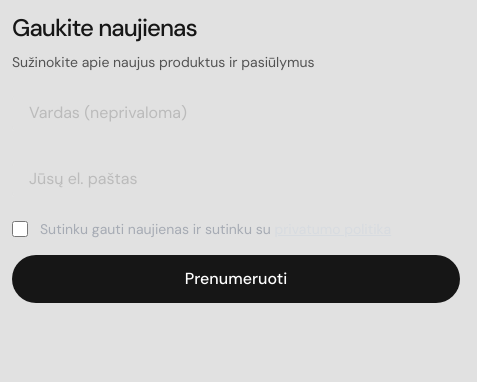
NewsletterSignup › handles API errors
Type "test@example.com" into the field with placeholder "Jūsų el. paštas" at (236, 179), box [12, 154, 460, 204]
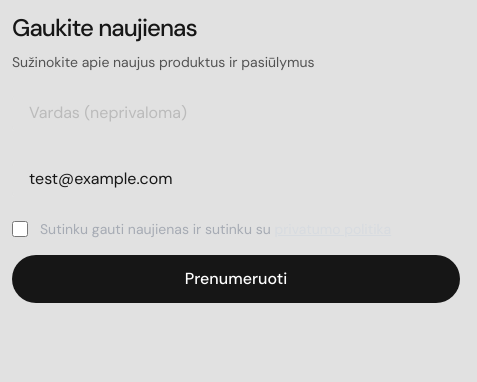
Click the checkbox at (20, 229), box [12, 221, 28, 237]
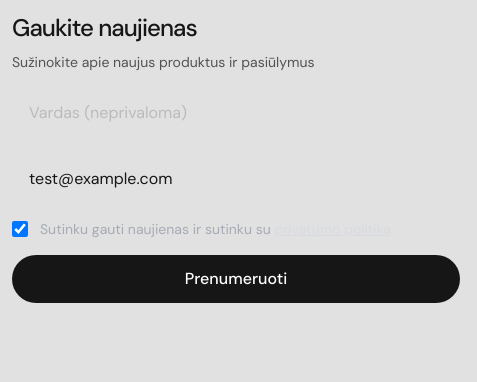
Click the button "Prenumeruoti" at (236, 279), box [12, 255, 460, 303]
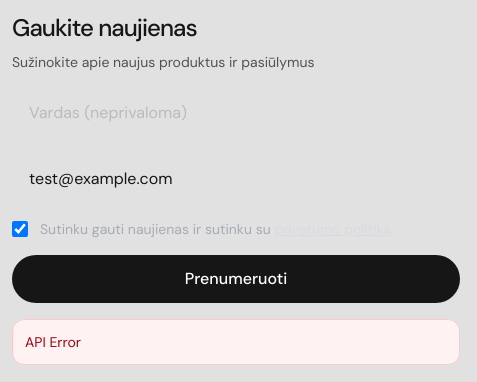
Expected: the text "API Error" is shown, [12, 319, 460, 365]
